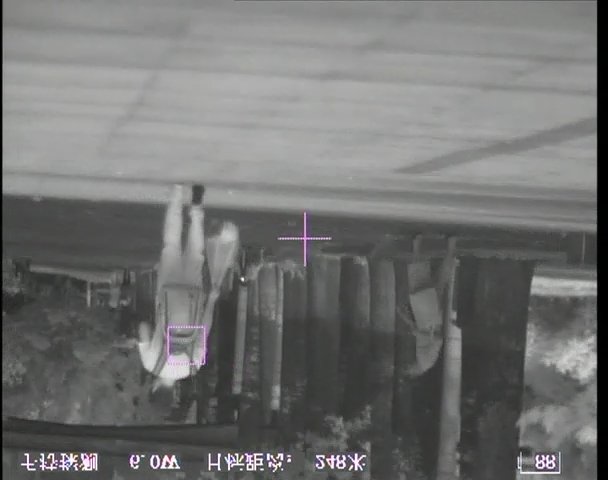my: (240, 275, 249, 284)
